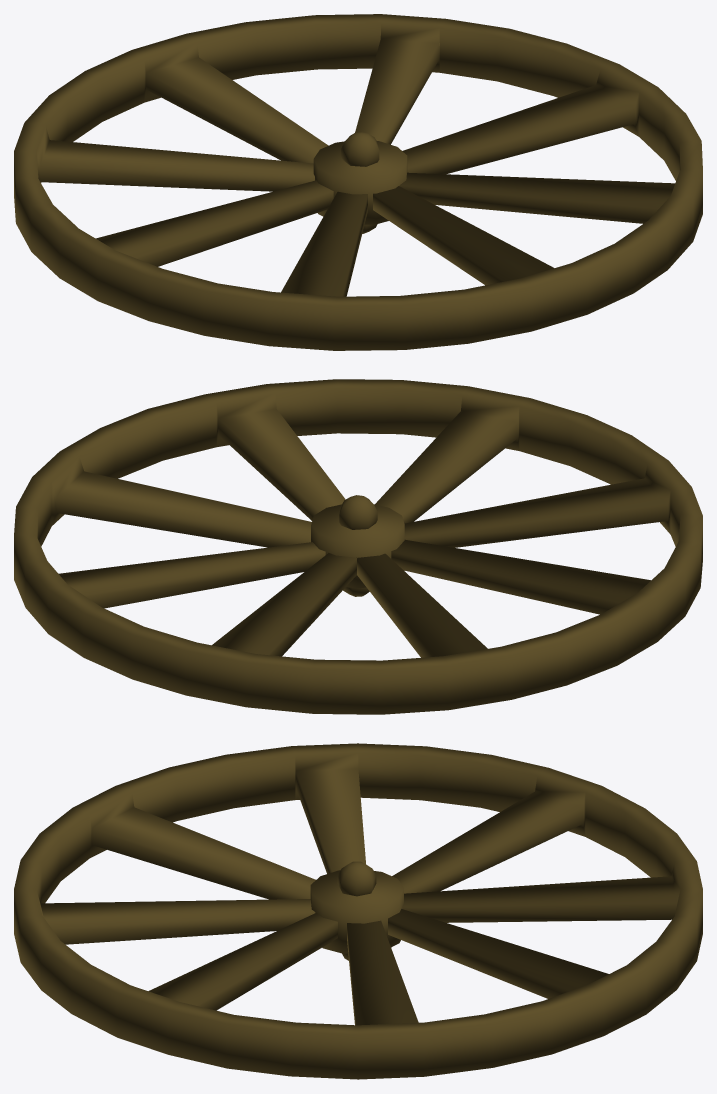
File: WoodWhell.fbx
3 renders of one model, top to bottom at view 1: azimuth 30°, elevation 25°; view 2: azimuth 150°, elevation 25°; view 3: azimuth 270°, elevation 25°, orthographic.
Parts seen in each view (by area): view 1: Cube; view 2: Cube; view 3: Cube.
Boxes of the visible parts, x1,y1,x2,y2 form: Cube: (14, 14, 702, 350); Cube: (14, 379, 702, 714); Cube: (14, 743, 702, 1079).
Size of the model in its own units: 10.28 by 1.61 by 10.28.
